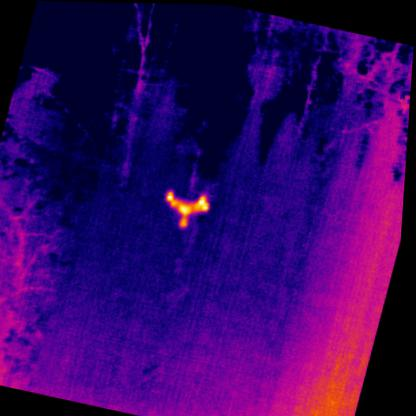drone: (160, 185, 214, 231)
